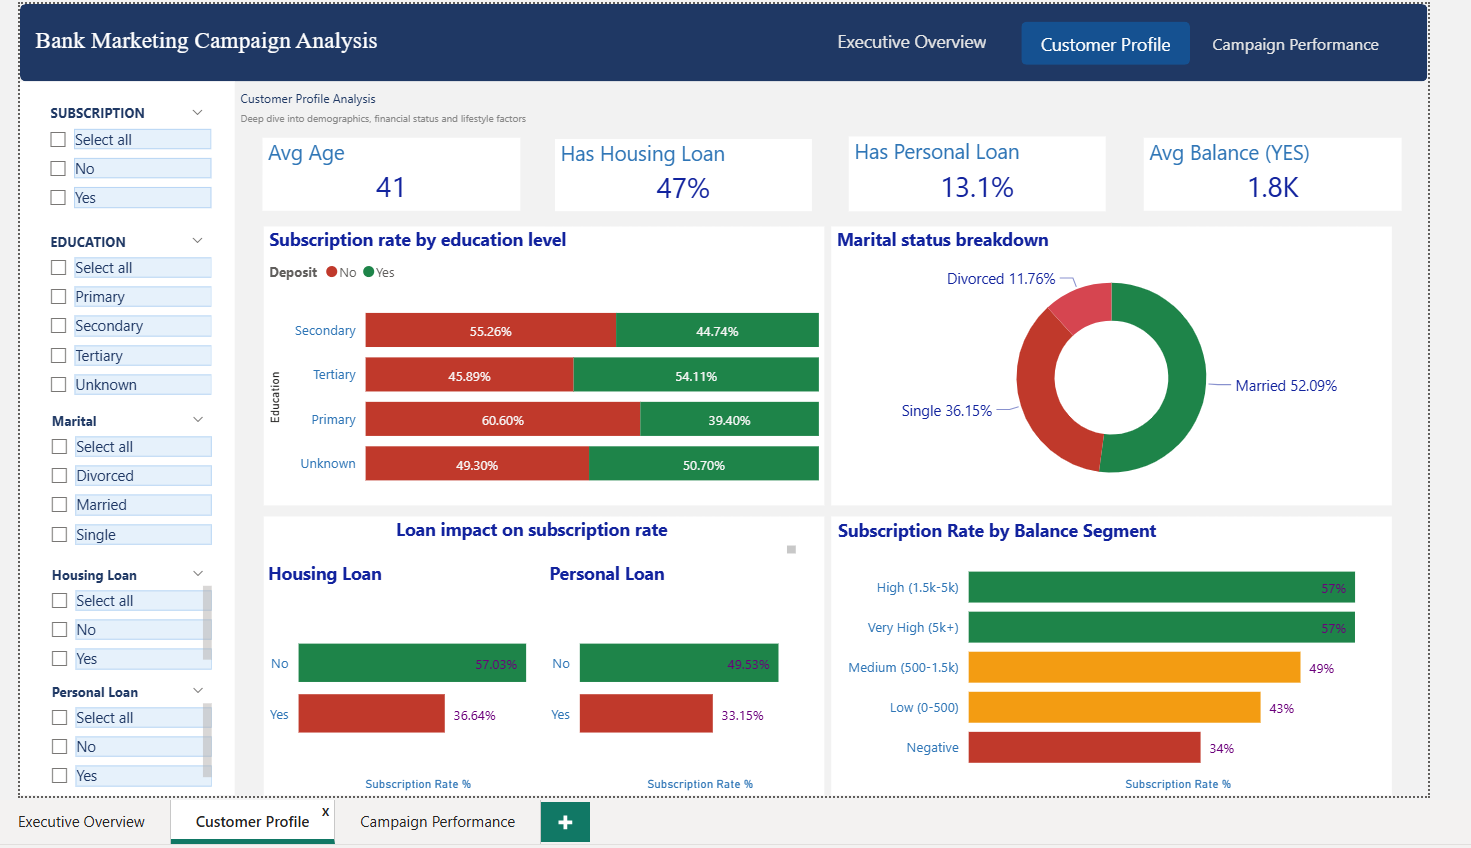

What the dashboard file says about the page in this screenshot:
{"tool":"powerbi","page":{"name":"Customer Profile","canvas":[1280,720],"ordinal":1},"visuals":[{"type":"shape","box":[738,202.8,509.9,253.5],"z":0},{"type":"shape","box":[0,0,1279.6,70.4],"z":1000},{"type":"shape","box":[0,70.9,195.3,648.8],"z":2000},{"type":"textbox","box":[9.3,16.3,383.7,37.2],"z":3000},{"type":"actionButton","box":[733.7,14,153.5,39.5],"z":4000},{"type":"actionButton","box":[910.5,16.3,153.5,39.5],"z":5000},{"type":"actionButton","box":[1076.7,16.3,165.1,39.5],"z":6000},{"type":"slicer","fields":{"Values":["Bank Campaign.Deposit"]},"box":[15.1,86,164,117.4],"z":7000},{"type":"slicer","fields":{"Values":["Bank Campaign.Housing"]},"box":[15.5,505.6,163.4,107],"z":8000},{"type":"slicer","fields":{"Values":["Bank Campaign.Education"]},"box":[15.1,203.5,164,162.8],"z":9000},{"type":"slicer","fields":{"Values":["Bank Campaign.Marital"]},"box":[15.5,366.2,163.4,139.4],"z":10000},{"type":"slicer","fields":{"Values":["Bank Campaign.Loan"]},"box":[15.5,612.7,163.4,107],"z":11000},{"type":"textbox","box":[195.2,70.9,361.4,74.4],"z":12000},{"type":"card","title":"Avg Age","fields":{"Values":["Avg(Bank Campaign.Age)"]},"box":[220.8,122,234.7,66.2],"z":13000},{"type":"card","title":"Avg Balance (YES)","fields":{"Values":["Bank Campaign.Avg Balance Subscribers"]},"box":[1021.4,122,234.7,66.2],"z":14000},{"type":"card","title":"Has Personal Loan","fields":{"Values":["Bank Campaign.Has Personal Loan"]},"box":[753.9,120.9,233.5,67.6],"z":15000},{"type":"card","title":"Has Housing Loan","fields":{"Values":["Bank Campaign.Has Housing Loan"]},"box":[486.2,122.7,233.6,65.7],"z":16000},{"type":"shape","box":[221.1,466.2,509.9,253.5],"z":17000},{"type":"shape","box":[738,466.2,509.9,253.5],"z":18000},{"type":"shape","box":[221.1,202.8,509.9,253.5],"z":19000},{"type":"hundredPercentStackedBarChart","title":"Subscription rate by education level","fields":{"Y":["CountNonNull(Bank Campaign.Deposit)"],"Category":["Bank Campaign.Education"],"Series":["Bank Campaign.Deposit"]},"box":[221.1,202.8,509.9,253.5],"z":20000},{"type":"donutChart","title":"Marital status breakdown","fields":{"Category":["Bank Campaign.Marital"],"Y":["Bank Campaign.Subscribed"]},"box":[738,202.8,509.9,253.5],"z":21000},{"type":"clusteredBarChart","title":"Subscription  Rate by Balance Segment","fields":{"Category":["Bank Campaign.Balance_Group"],"Y":["Bank Campaign.Subscription Rate %"]},"box":[738.3,466.7,510,253.3],"z":22000},{"type":"barChart","title":"Housing Loan","fields":{"Category":["Bank Campaign.Housing"],"Y":["Bank Campaign.Subscription Rate %"]},"box":[220.8,505.4,255.6,215],"z":23000},{"type":"barChart","title":"Personal Loan","fields":{"Y":["Bank Campaign.Subscription Rate %"],"Category":["Bank Campaign.Loan"]},"box":[476.4,505.4,256.8,215],"z":24000},{"type":"textbox","title":"Loan impact on subscription rate","box":[220.8,466.2,489.6,39],"z":25000}]}

Visuals, with their boxes on the page's 1280x720 design canvas (x1, y1, x2, y2). These are canvas units, not pixel positions in the 1471x848 screenshot, which may show the page scaled, cropped or inside an application window:
shape: x1=738, y1=203, x2=1248, y2=456
shape: x1=0, y1=0, x2=1280, y2=70
shape: x1=0, y1=71, x2=195, y2=720
textbox: x1=9, y1=16, x2=393, y2=54
actionButton: x1=734, y1=14, x2=887, y2=54
actionButton: x1=910, y1=16, x2=1064, y2=56
actionButton: x1=1077, y1=16, x2=1242, y2=56
slicer - Bank Campaign.Deposit: x1=15, y1=86, x2=179, y2=203
slicer - Bank Campaign.Housing: x1=16, y1=506, x2=179, y2=613
slicer - Bank Campaign.Education: x1=15, y1=204, x2=179, y2=366
slicer - Bank Campaign.Marital: x1=16, y1=366, x2=179, y2=506
slicer - Bank Campaign.Loan: x1=16, y1=613, x2=179, y2=720
textbox: x1=195, y1=71, x2=557, y2=145
"Avg Age" card: x1=221, y1=122, x2=456, y2=188
"Avg Balance (YES)" card: x1=1021, y1=122, x2=1256, y2=188
"Has Personal Loan" card: x1=754, y1=121, x2=987, y2=188
"Has Housing Loan" card: x1=486, y1=123, x2=720, y2=188
shape: x1=221, y1=466, x2=731, y2=720
shape: x1=738, y1=466, x2=1248, y2=720
shape: x1=221, y1=203, x2=731, y2=456
"Subscription rate by education level" hundredPercentStackedBarChart: x1=221, y1=203, x2=731, y2=456
"Marital status breakdown" donutChart: x1=738, y1=203, x2=1248, y2=456
"Subscription  Rate by Balance Segment" clusteredBarChart: x1=738, y1=467, x2=1248, y2=720
"Housing Loan" barChart: x1=221, y1=505, x2=476, y2=720
"Personal Loan" barChart: x1=476, y1=505, x2=733, y2=720
"Loan impact on subscription rate" textbox: x1=221, y1=466, x2=710, y2=505
